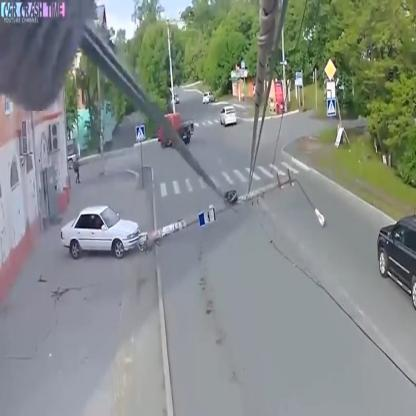accident: (63, 207, 219, 256)
